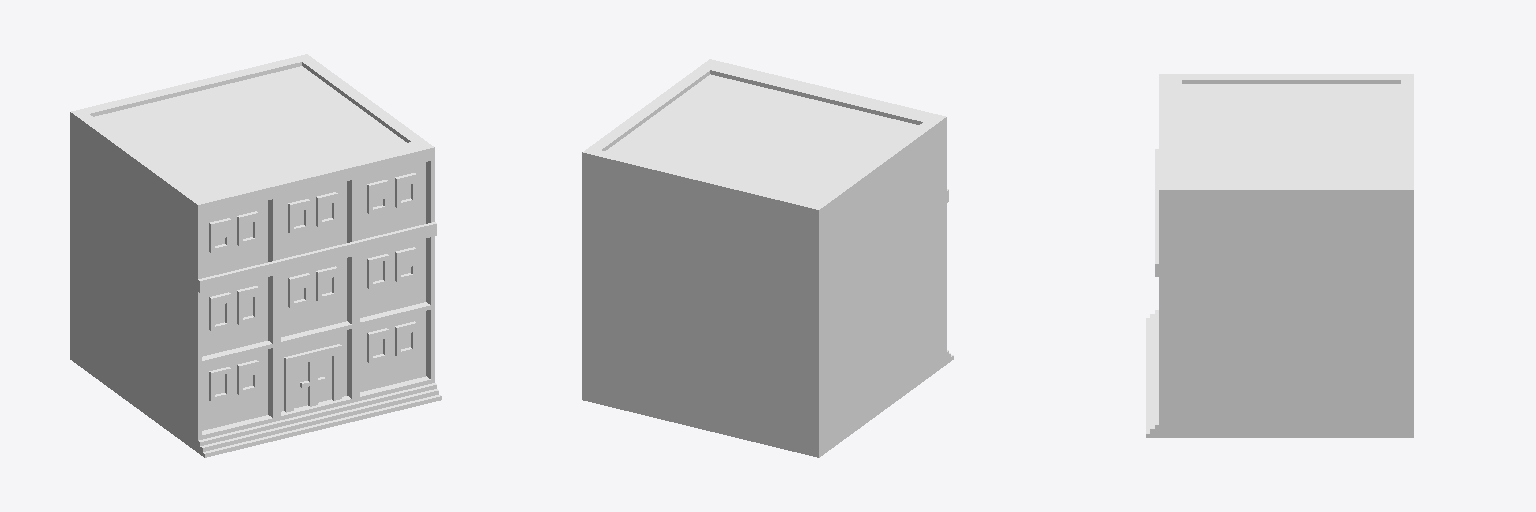
Rendered from Edificio_05.obj.
3 renders of one model, left to right at view 1: azimuth 30°, elevation 25°; view 2: azimuth 150°, elevation 25°; view 3: azimuth 270°, elevation 25°, orthographic.
Parts seen in each view (by area): view 1: object 1; view 2: object 1; view 3: object 1.
Part boxes in pixels (x1,y1,x2,y2): object 1: (70,54,441,457); object 1: (582,59,953,457); object 1: (1146,74,1413,437).
Size of the model in its own units: 6 by 6 by 5.9.